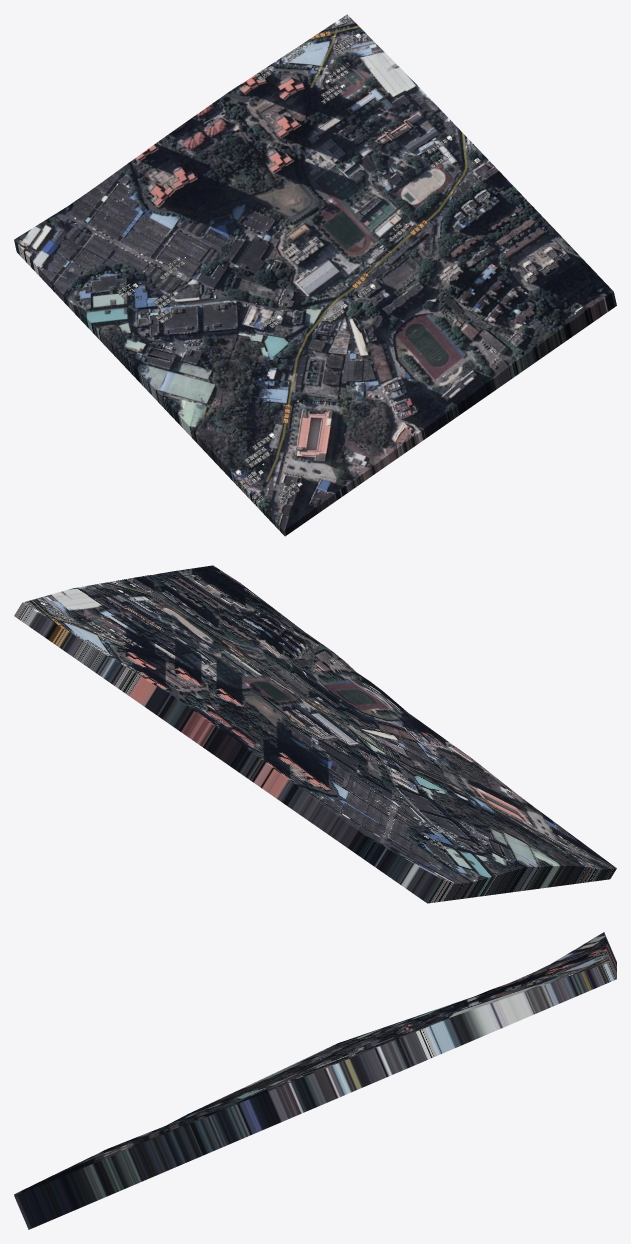
3 views of the same model, one above another, from view 1: azimuth 30°, elevation 25°; view 2: azimuth 150°, elevation 25°; view 3: azimuth 270°, elevation 25° (orthographic). The views are drawn at different scales.
Parts seen in each view (by area): view 1: 0_16_25; view 2: 0_16_25; view 3: 0_16_25.
Part boxes in pixels (left/top/right/bottom): 0_16_25: left=14, top=14, right=616, bottom=536; 0_16_25: left=14, top=565, right=616, bottom=903; 0_16_25: left=14, top=932, right=616, bottom=1229.
Bounding box in the file's own units: 603 × 442 × 556.
Materials: 1 (1 with a texture image).
